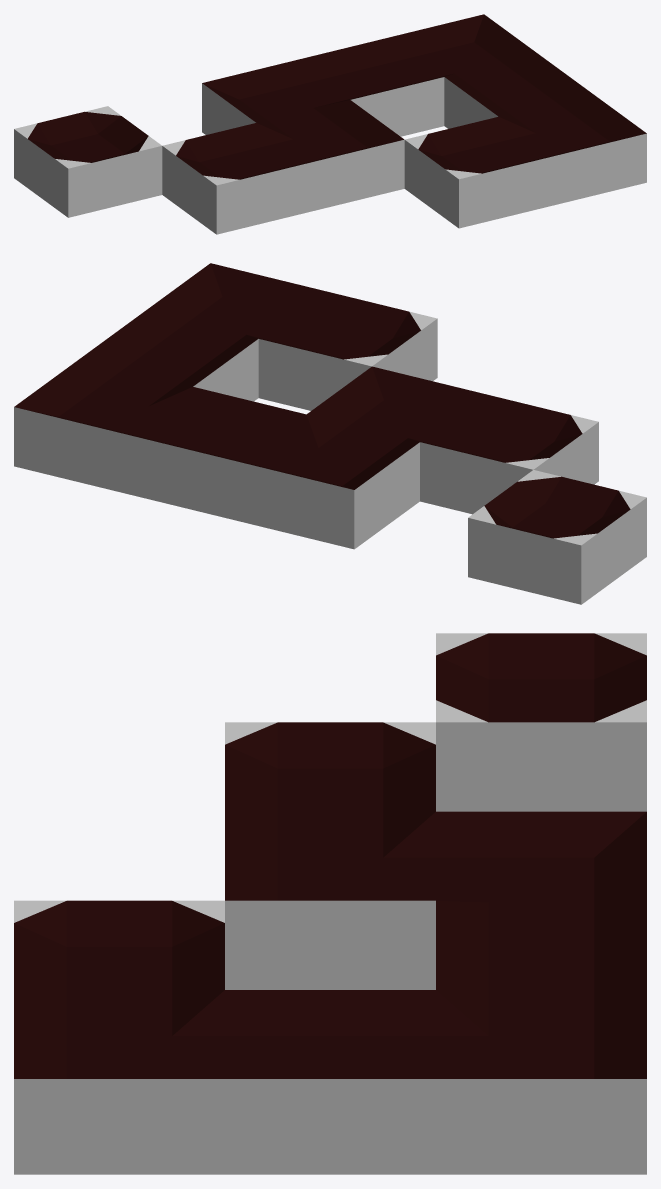
The model's file is 33f_path.obj.
3 renders of one model, top to bottom at view 1: azimuth 30°, elevation 25°; view 2: azimuth 150°, elevation 25°; view 3: azimuth 270°, elevation 25°, orthographic. The views are drawn at different scales.
Parts seen in each view (by area): view 1: foil.hole.0.2_Cube.067, foil.ending.1.1_ending.131, foil.ending.3.0_ending.132, foil.corner.2.1_corner.333, foil.corner.4.0_corner.335, foil.through.3.2_through.061, foil.corner.2.2_corner.334, foil.through.4.1_through.062, foil.corner.4.2_corner.336; view 2: foil.hole.0.2_Cube.067, foil.corner.2.2_corner.334, foil.through.3.2_through.061, foil.ending.3.0_ending.132, foil.ending.1.1_ending.131, foil.corner.4.2_corner.336, foil.through.4.1_through.062, foil.corner.4.0_corner.335, foil.corner.2.1_corner.333; view 3: foil.through.4.1_through.062, foil.hole.0.2_Cube.067, foil.corner.4.0_corner.335, foil.corner.4.2_corner.336, foil.corner.2.1_corner.333, foil.ending.3.0_ending.132, foil.corner.2.2_corner.334, foil.ending.1.1_ending.131, foil.through.3.2_through.061.
Part boxes in pixels (bbox=[...]): foil.hole.0.2_Cube.067: bbox=[14, 106, 162, 217]; foil.ending.1.1_ending.131: bbox=[162, 123, 310, 234]; foil.ending.3.0_ending.132: bbox=[404, 116, 552, 228]; foil.corner.2.1_corner.333: bbox=[256, 100, 404, 211]; foil.corner.4.0_corner.335: bbox=[499, 94, 646, 205]; foil.through.3.2_through.061: bbox=[296, 37, 444, 136]; foil.corner.2.2_corner.334: bbox=[202, 60, 349, 134]; foil.through.4.1_through.062: bbox=[444, 54, 592, 128]; foil.corner.4.2_corner.336: bbox=[390, 14, 537, 83]; foil.hole.0.2_Cube.067: bbox=[468, 470, 646, 604]; foil.corner.2.2_corner.334: bbox=[241, 414, 419, 549]; foil.through.3.2_through.061: bbox=[127, 387, 306, 521]; foil.ending.3.0_ending.132: bbox=[258, 291, 437, 410]; foil.ending.1.1_ending.131: bbox=[420, 394, 598, 514]; foil.corner.4.2_corner.336: bbox=[14, 359, 192, 493]; foil.through.4.1_through.062: bbox=[80, 311, 258, 401]; foil.corner.4.0_corner.335: bbox=[145, 263, 323, 346]; foil.corner.2.1_corner.333: bbox=[307, 366, 485, 449]; foil.through.4.1_through.062: bbox=[225, 990, 435, 1174]; foil.hole.0.2_Cube.067: bbox=[436, 633, 646, 811]; foil.corner.4.0_corner.335: bbox=[14, 990, 224, 1174]; foil.corner.4.2_corner.336: bbox=[436, 990, 646, 1174]; foil.corner.2.1_corner.333: bbox=[225, 811, 435, 989]; foil.ending.3.0_ending.132: bbox=[14, 900, 224, 1013]; foil.corner.2.2_corner.334: bbox=[436, 811, 646, 924]; foil.ending.1.1_ending.131: bbox=[225, 722, 435, 835]; foil.through.3.2_through.061: bbox=[436, 901, 646, 1013].
Size of the model in its own units: 10 by 1 by 6.
